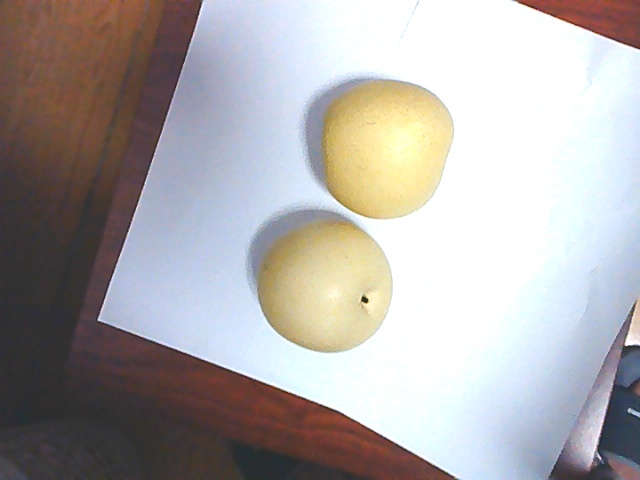pear: (255, 214, 395, 353), (318, 82, 452, 219)
